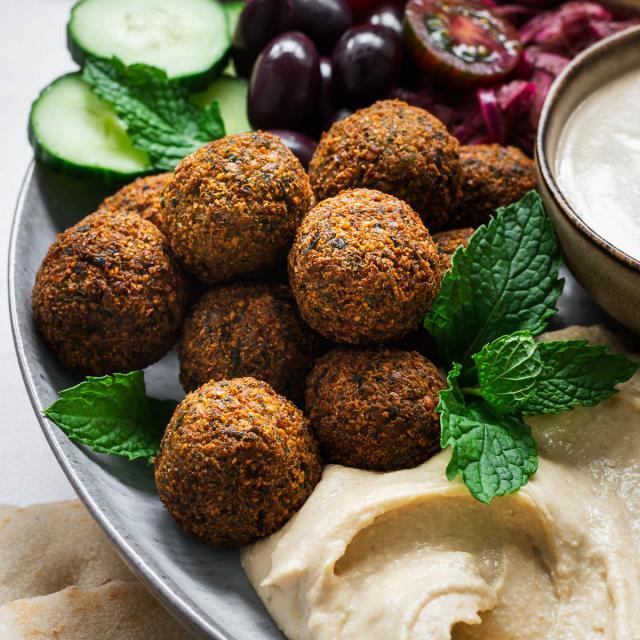flafel: (155, 375, 324, 543), (154, 127, 321, 277), (28, 214, 183, 368), (306, 342, 451, 477)
